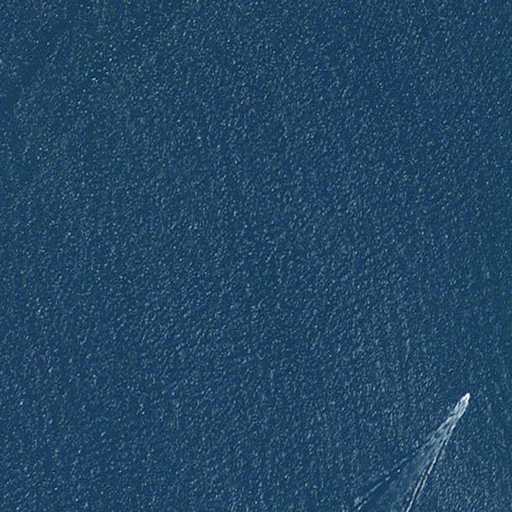ship: (458, 390, 470, 416)
